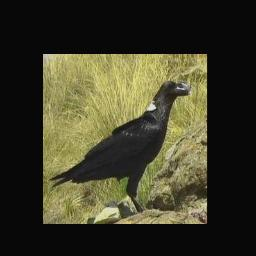Crow: (48, 78, 192, 215)
